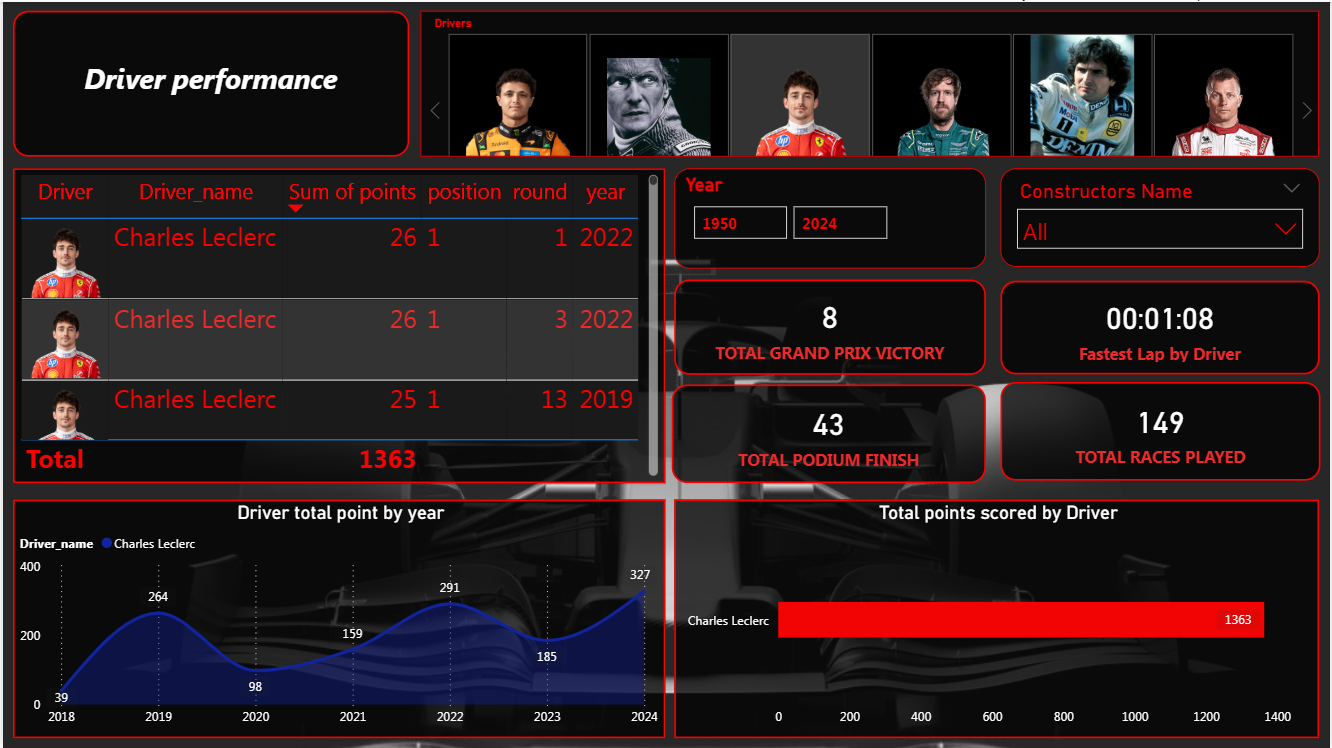

The dashboard page shown, as its layout file describes it:
{"tool":"powerbi","page":{"name":"Drivers performance","canvas":[1280,720],"ordinal":1},"visuals":[{"type":"slicer","fields":{"Values":["Drivers.URLs"]},"box":[403,8.4,867.4,141.2],"z":0},{"type":"slicer","title":"Year","fields":{"Values":["Races.year"]},"box":[647.9,160.5,300.4,96.5],"z":1000},{"type":"slicer","fields":{"Values":["constructor.name"]},"box":[962.7,160.5,307.6,95.3],"z":2000},{"type":"tableEx","fields":{"Values":["Drivers.URLs","Drivers.Driver_name","Sum(Results.points)","Results.position","Races.round","Races.year"]},"box":[9.7,160.5,629.8,304],"z":3000},{"type":"clusteredBarChart","title":"Total points scored by Driver","fields":{"Category":["Drivers.Driver_name"],"Y":["Sum(Results.points)"]},"box":[647.9,480.2,622.5,230.4],"z":4000},{"type":"lineChart","title":"Driver total point by year","fields":{"Category":["Races.year"],"Y":["Sum(Results.points)"],"Series":["Drivers.Driver_name"]},"box":[9.7,480.2,629.8,230.4],"z":5000},{"type":"card","fields":{"Values":["CountNonNull(Results.position)"]},"box":[645.4,369.2,302.8,95.3],"z":6000},{"type":"card","fields":{"Values":["CountNonNull(Results.raceId)"]},"box":[962.7,366.8,308.8,95.3],"z":7000},{"type":"card","fields":{"Values":["Constructor_standings.Fastest Lap by Driver"]},"box":[962.7,269,307.6,90.5],"z":8000},{"type":"card","fields":{"Values":["CountNonNull(Results.position)"]},"box":[647.9,267.8,300.4,91.7],"z":9000},{"type":"textbox","box":[9.7,8.4,382.4,141.2],"z":10000}]}

Visuals, with their boxes in screenshot pixels (x1, y1, x2, y2), scaled from the page's 1280x720 canvas onto the 1332x748 screenshot:
slicer - Drivers.URLs: 419:9:1322:155
"Year" slicer: 674:167:987:267
slicer - constructor.name: 1002:167:1322:266
tableEx - Drivers.URLs x Drivers.Driver_name: 10:167:665:483
"Total points scored by Driver" clusteredBarChart: 674:499:1322:738
"Driver total point by year" lineChart: 10:499:665:738
card - CountNonNull(Results.position): 672:384:987:483
card - CountNonNull(Results.raceId): 1002:381:1323:480
card - Constructor_standings.Fastest Lap by Driver: 1002:279:1322:373
card - CountNonNull(Results.position): 674:278:987:373
textbox: 10:9:408:155
